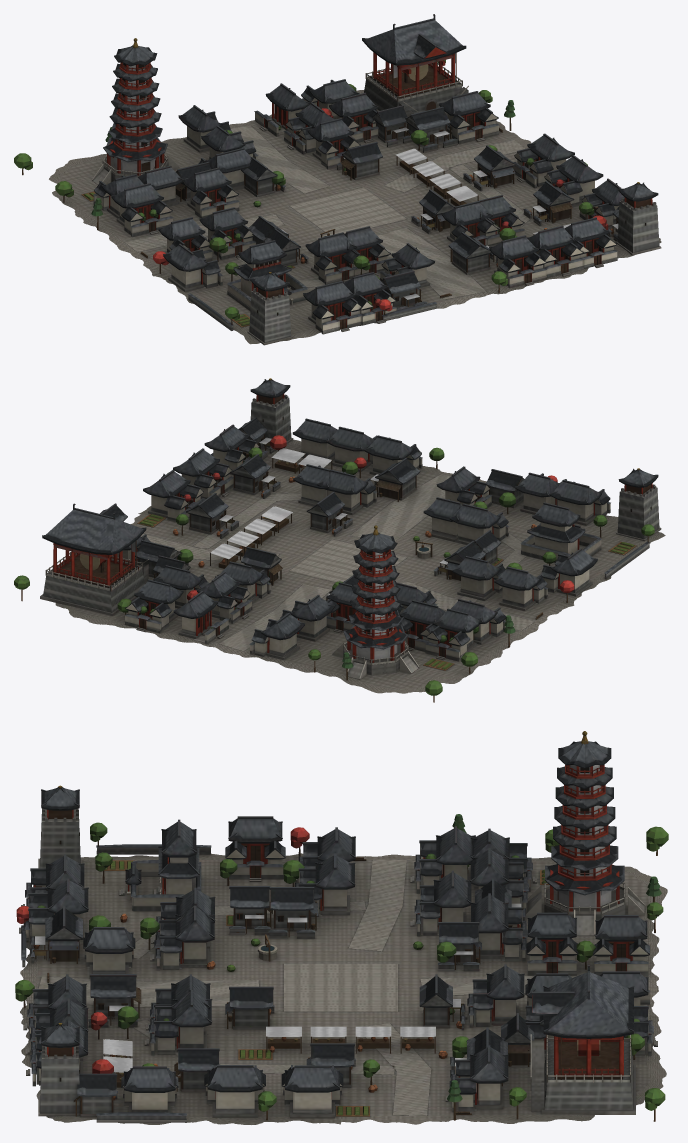
The model's file is kingdoms-town-big-a-sinic.glb.
The picture shows the model from 3 angles, top to bottom: view 1: azimuth 30°, elevation 25°; view 2: azimuth 150°, elevation 25°; view 3: azimuth 270°, elevation 25°; orthographic projection. The views are drawn at different scales.
Parts seen in each view (by area): view 1: LOD0; view 2: LOD0; view 3: LOD0.
Boxes of the visible parts, x1,y1,x2,y2 form: LOD0: (14,14,661,345); LOD0: (14,378,665,702); LOD0: (15,731,668,1124).
Size of what is drawn, in the model's own units: 8.05 by 2.46 by 8.12.
Materials: 3 (3 with a texture image).
